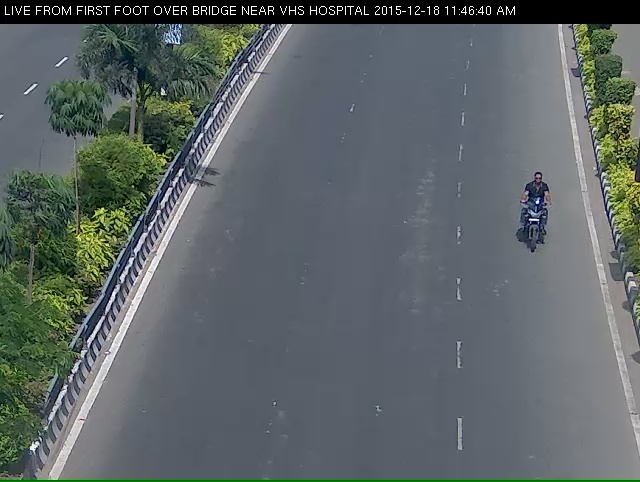Person: (521, 173, 556, 276)
